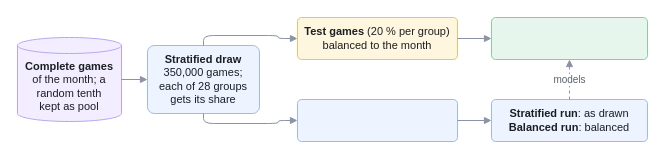
Image size: 665x159. Some labels were removed from this diagram. The shapes that lost their labels are listed below. From the top down, each one's box as (x1, y1, x2, y2) in pixels, then its label:
(490, 16, 648, 60): Scored once , the same games for both runs
(296, 98, 458, 142): Training games (80 %) 10 % are validation games
